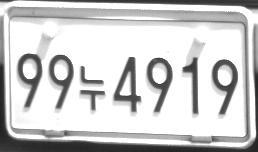1: (179, 56, 209, 114)
4: (113, 56, 141, 113)
9: (211, 58, 238, 115), (146, 57, 173, 113), (48, 54, 74, 108), (17, 52, 42, 108)
누: (79, 65, 105, 110)
